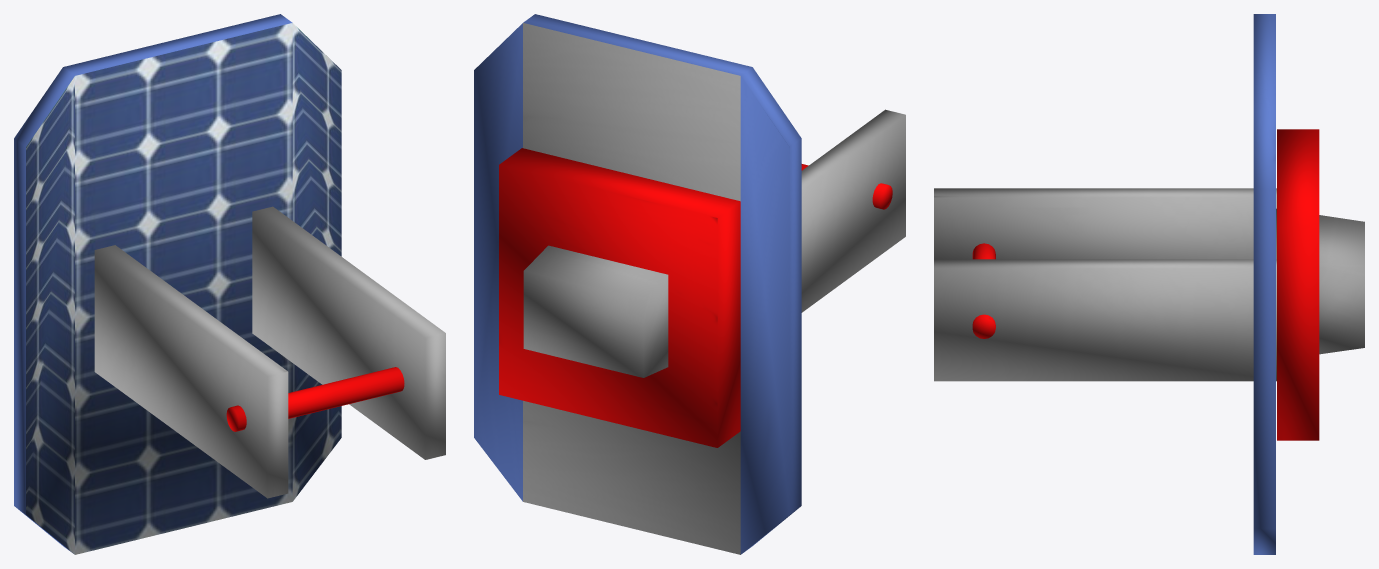
Rendered from solar.fbx.
3 views of the same model, side by side, from view 1: azimuth 30°, elevation 25°; view 2: azimuth 150°, elevation 25°; view 3: azimuth 270°, elevation 25° (orthographic). The views are drawn at different scales.
Visible parts, largest first — view 1: Cube_001, Cube; view 2: Cube_001, Cube; view 3: Cube, Cube_001.
Part boxes in pixels (x1=…): Cube_001: x1=14, y1=14, x2=341, y2=554; Cube: x1=94, y1=206, x2=445, y2=498; Cube_001: x1=474, y1=14, x2=801, y2=554; Cube: x1=499, y1=109, x2=905, y2=447; Cube: x1=934, y1=129, x2=1319, y2=440; Cube_001: x1=1253, y1=14, x2=1364, y2=554.
Size of the model in its own units: 2.87 by 4.16 by 3.67.
Materials: 2 (2 with a texture image).
